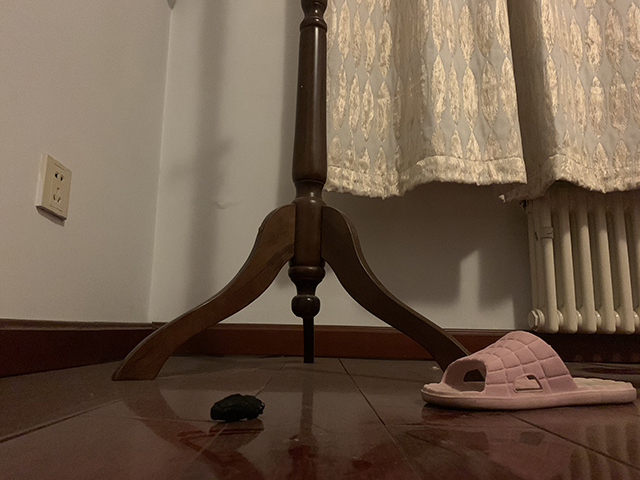curtain: (329, 1, 640, 200)
feces: (209, 392, 267, 422)
slippers: (419, 328, 640, 412)
